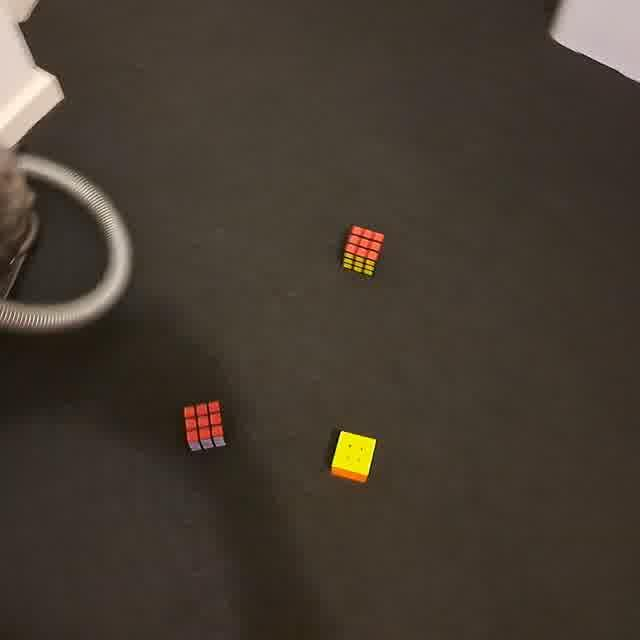rubix_cube: (329, 428, 379, 487), (180, 399, 229, 454), (339, 223, 386, 278)
